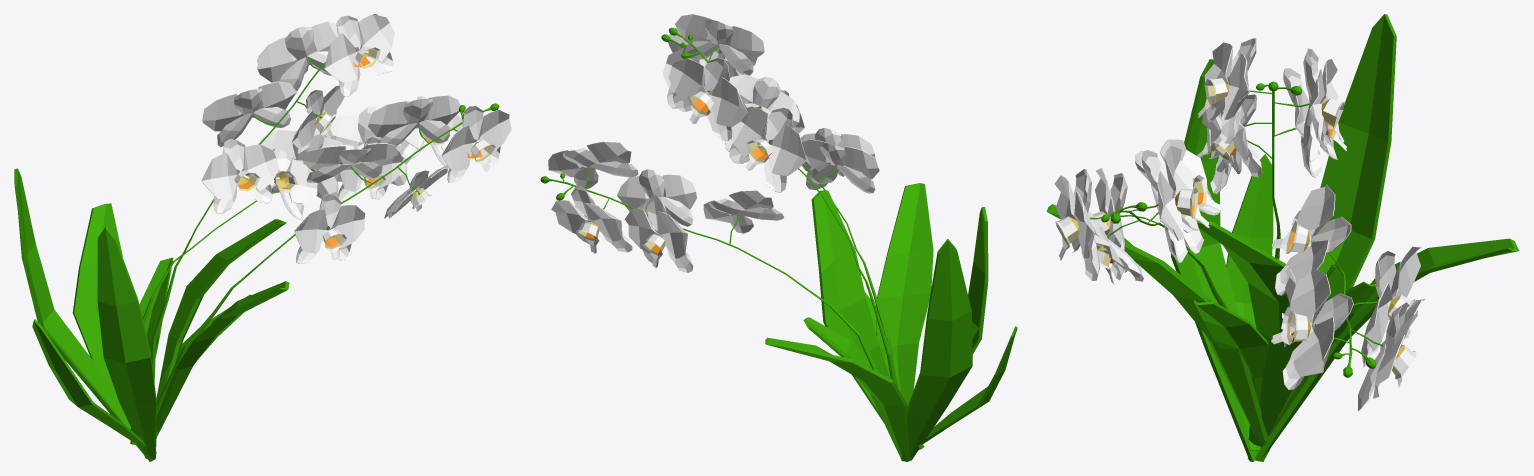
The model's file is orchidwhiteunified_new.fbx.
The picture shows the model from 3 angles, left to right: view 1: azimuth 30°, elevation 25°; view 2: azimuth 150°, elevation 25°; view 3: azimuth 270°, elevation 25°; orthographic projection. The views are drawn at different scales.
Visible parts, largest first — view 1: orchidwhite; view 2: orchidwhite; view 3: orchidwhite.
Part boxes in pixels (x1,y1,x2,y2): orchidwhite: [14, 14, 511, 461]; orchidwhite: [540, 14, 1017, 461]; orchidwhite: [1046, 14, 1519, 461].
Size of the model in its own units: 2842 by 2386 by 1851.
